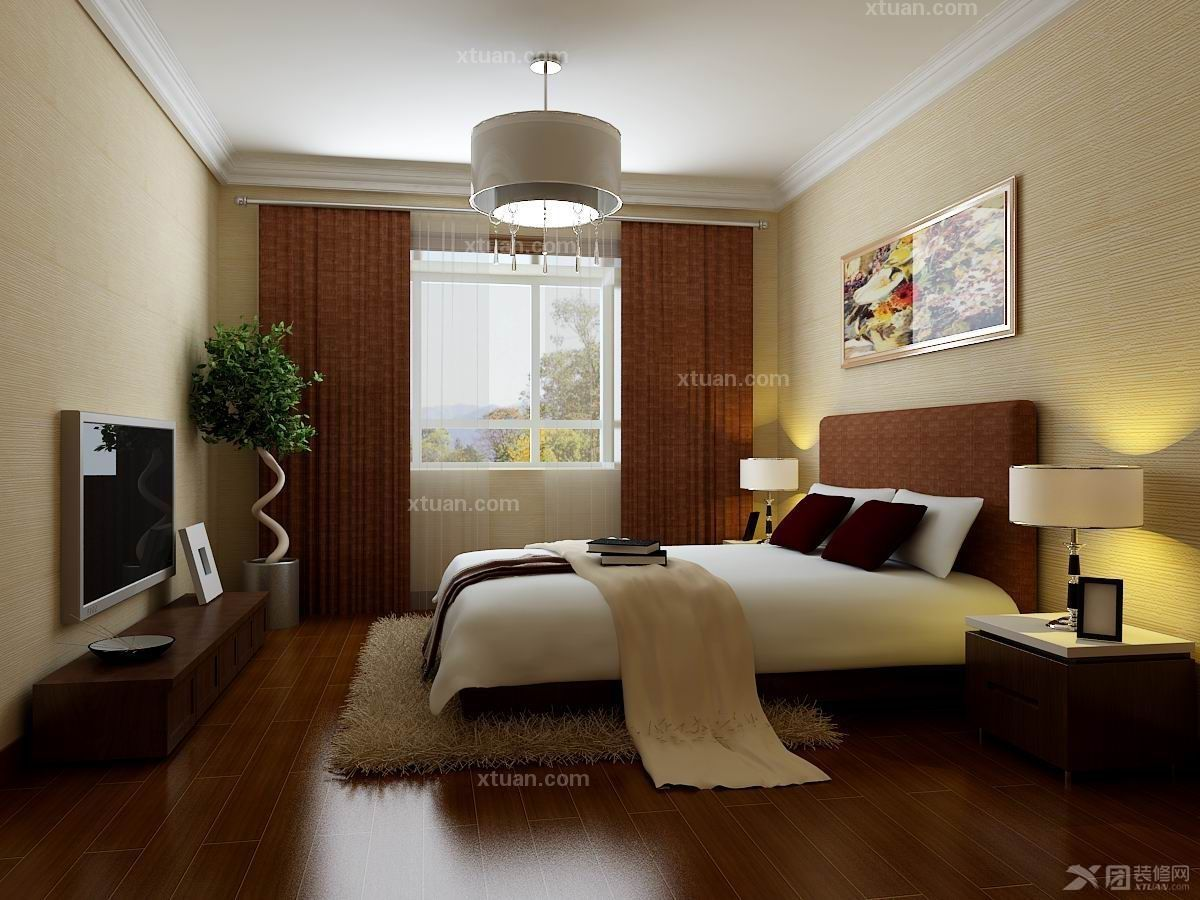床: (429, 538, 1001, 767)
枕头: (773, 485, 994, 577)
灯: (456, 59, 629, 276), (1014, 454, 1143, 636), (738, 451, 802, 539)
